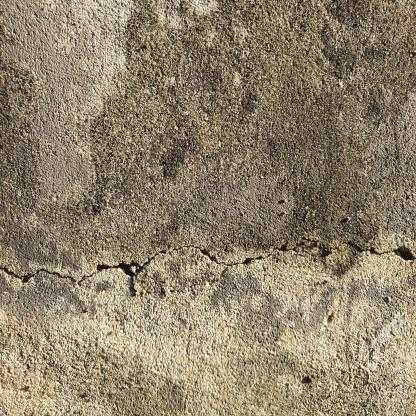crack: (3, 238, 415, 284)
